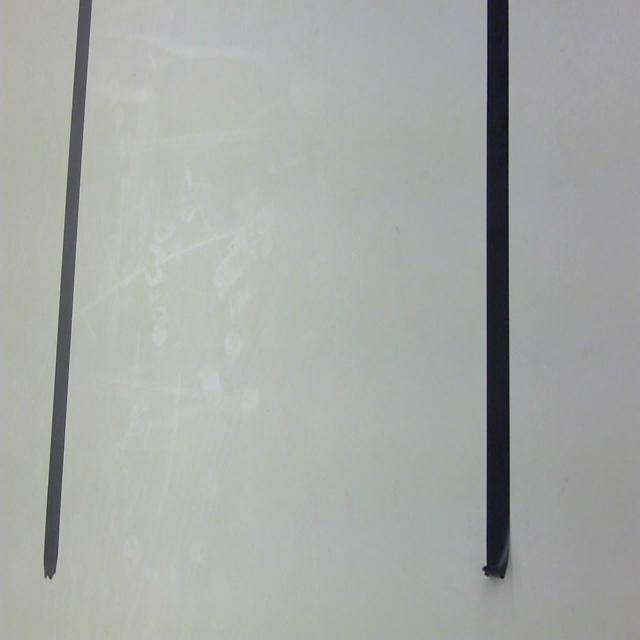tape: (464, 0, 531, 593), (32, 0, 98, 596)
